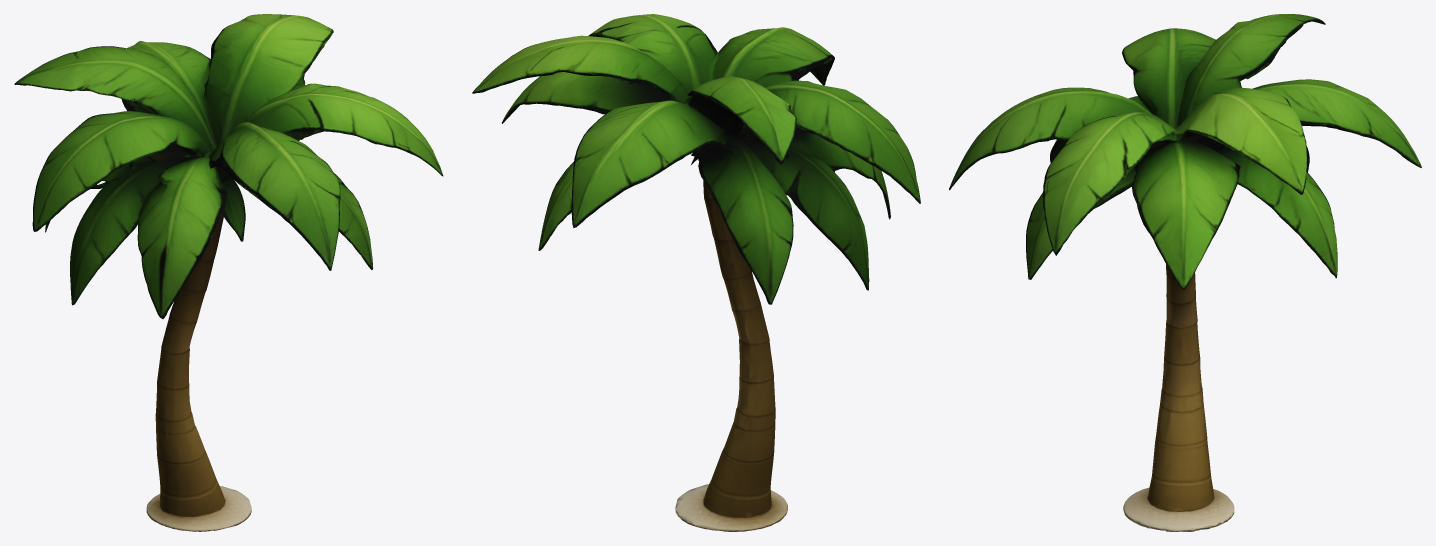
Rendered from palm-tree.glb.
The picture shows the model from 3 angles, left to right: view 1: azimuth 30°, elevation 25°; view 2: azimuth 150°, elevation 25°; view 3: azimuth 270°, elevation 25°; orthographic projection. The views are drawn at different scales.
Visible parts, largest first — view 1: geometry_0; view 2: geometry_0; view 3: geometry_0.
Boxes of the visible parts, bbox=[...] form: geometry_0: bbox=[14, 14, 443, 531]; geometry_0: bbox=[472, 14, 920, 531]; geometry_0: bbox=[949, 14, 1421, 531].
Size of the model in its own units: 0.9235 by 1 by 0.9288.
1 material, 1 textured.
